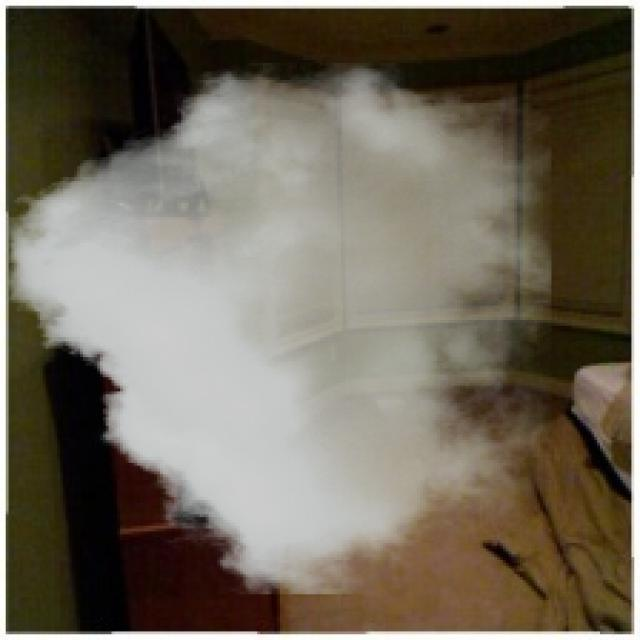Smoke: (9, 62, 552, 594)
